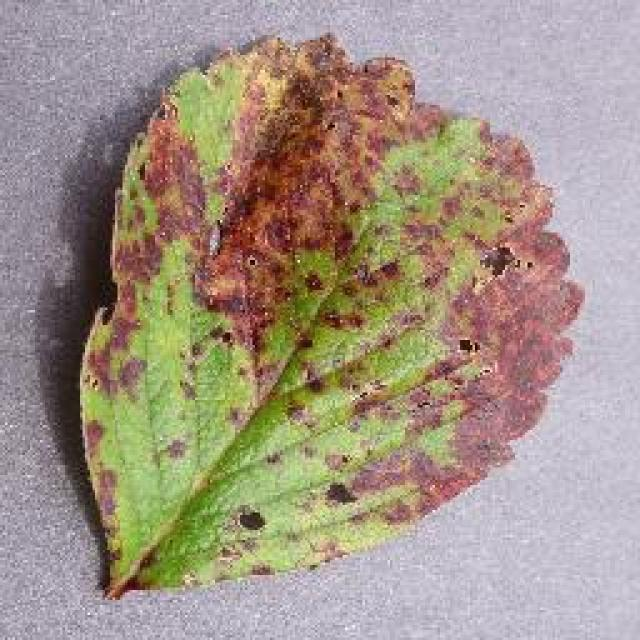Strawberry___Leaf_scorch: (60, 10, 605, 618)
